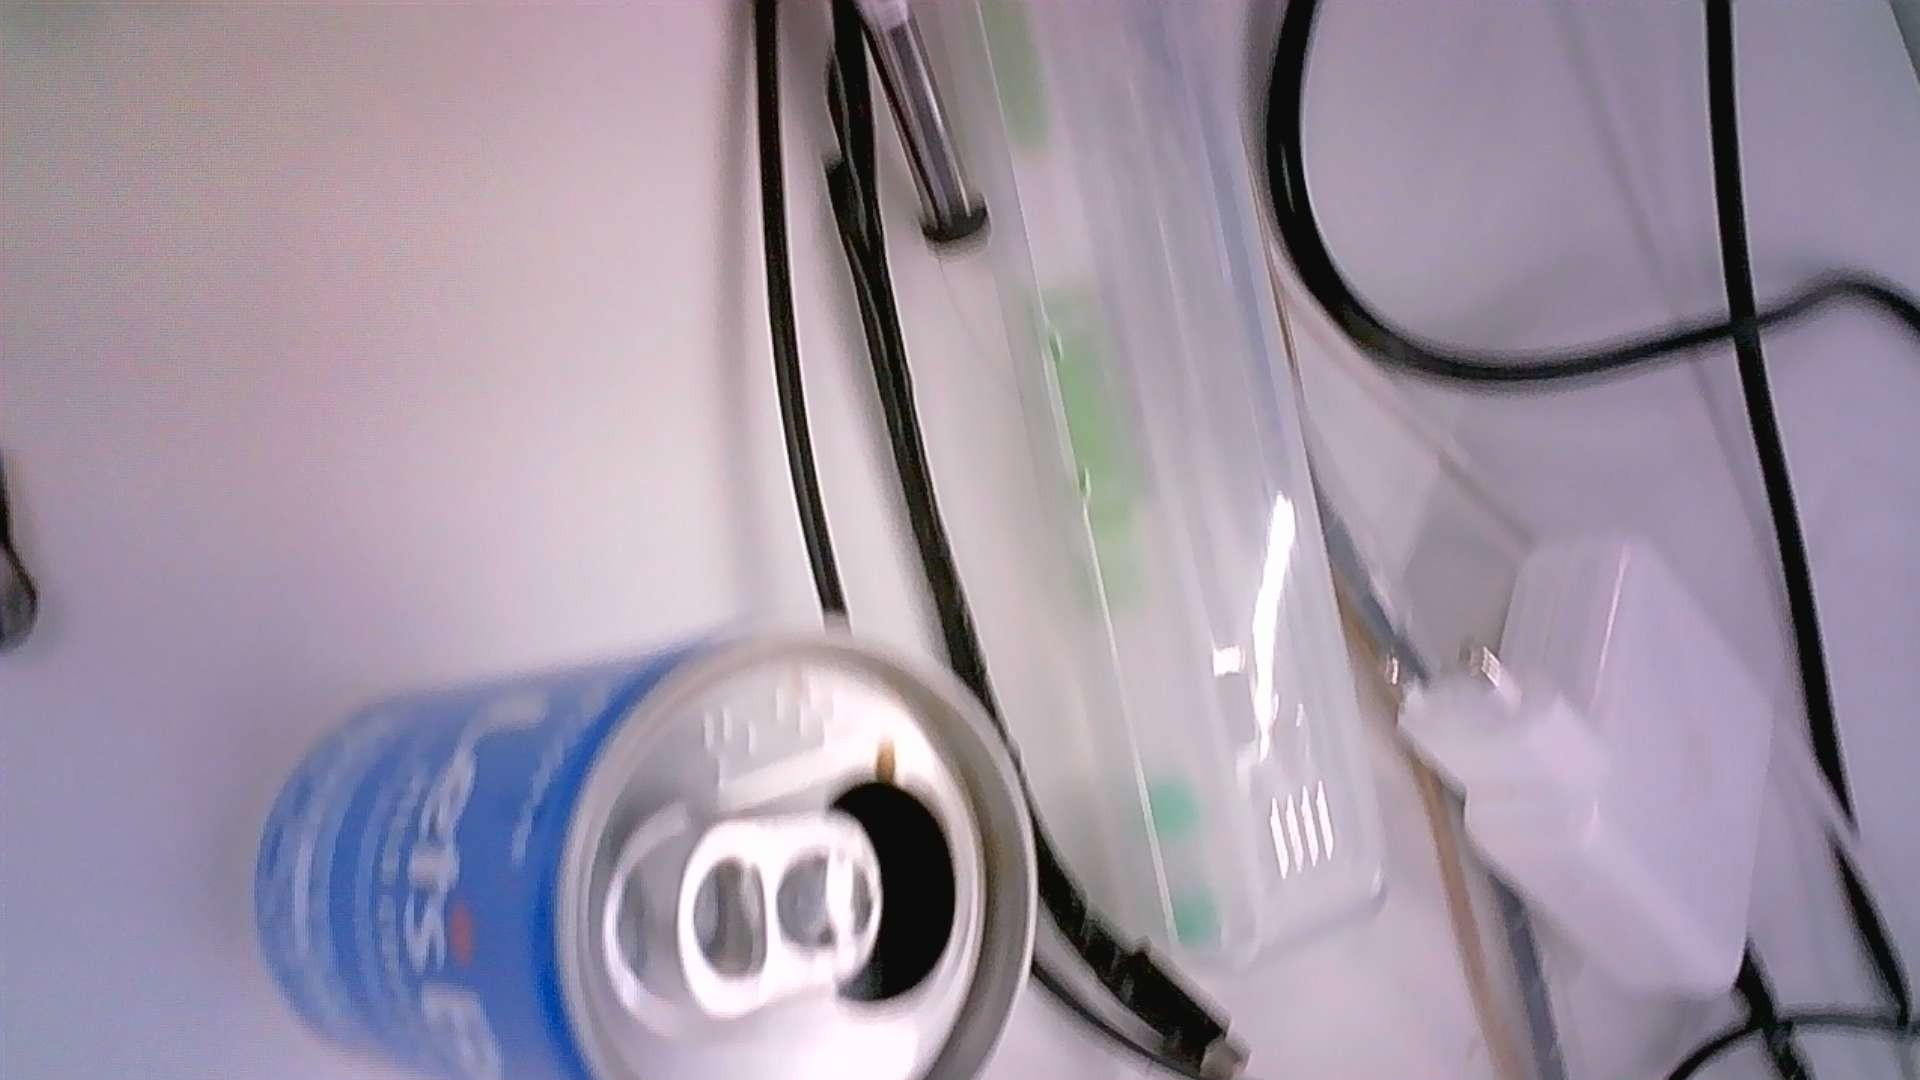letsbe: (252, 617, 1039, 1080)
